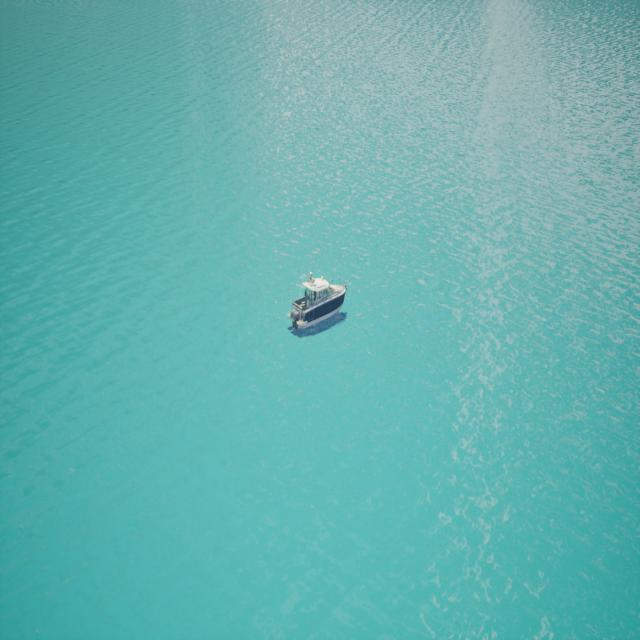ship: (289, 276, 346, 336)
